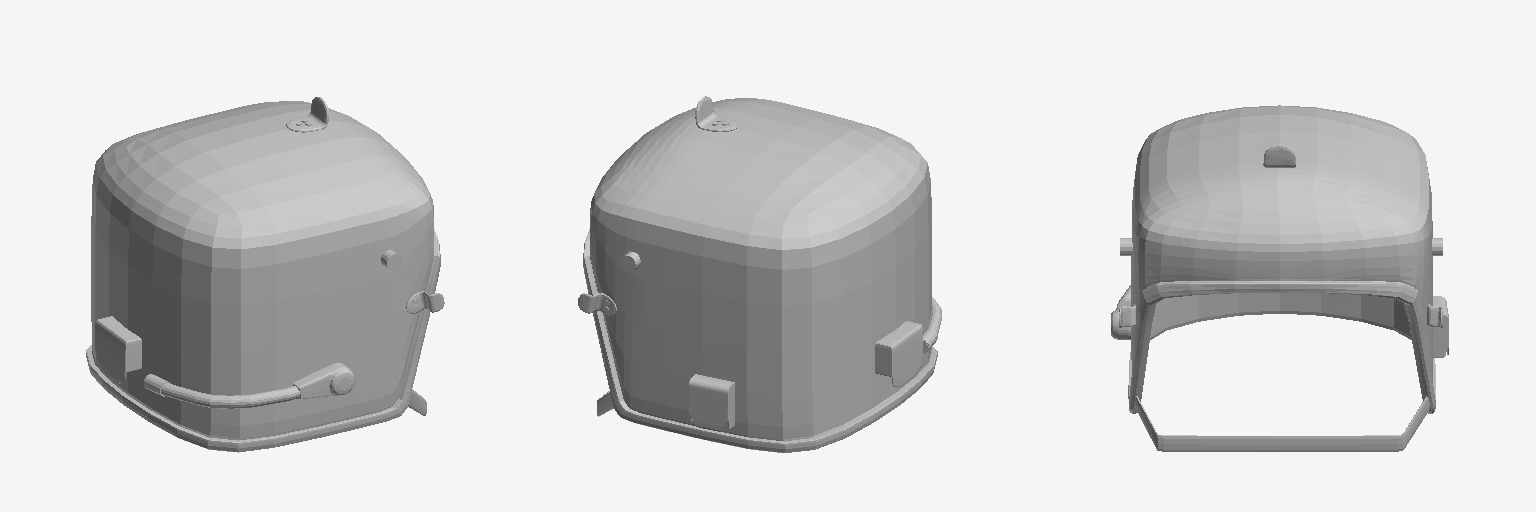
Rendered from helmet_altyn.obj.
The picture shows the model from 3 angles: view 1: azimuth 30°, elevation 25°; view 2: azimuth 150°, elevation 25°; view 3: azimuth 270°, elevation 25°; orthographic projection.
Visible parts, largest first — view 1: Cube.001, Cube.008_Cube.011, Cylinder.010, Cylinder.009, Cube.004_Cube.006, Cube.006_Cube.008; view 2: Cube.001, Cube.008_Cube.011, Cube.007_Cube.010, Cube.004_Cube.006, Cube.005_Cube.007, Cylinder.010; view 3: Cube.001, Cube.002_Cube.013, Cube.007_Cube.010, Cube.004_Cube.006.
Part boxes in pixels (left/top/right/bottom): Cube.001: left=86, top=101, right=440, bottom=452; Cube.008_Cube.011: left=95, top=316, right=141, bottom=383; Cylinder.010: left=144, top=374, right=299, bottom=408; Cylinder.009: left=293, top=362, right=354, bottom=398; Cube.004_Cube.006: left=286, top=97, right=328, bottom=132; Cube.006_Cube.008: left=406, top=291, right=444, bottom=313; Cube.001: left=583, top=98, right=937, bottom=452; Cube.008_Cube.011: left=875, top=321, right=922, bottom=387; Cube.007_Cube.010: left=689, top=374, right=734, bottom=431; Cube.004_Cube.006: left=695, top=96, right=737, bottom=131; Cube.005_Cube.007: left=578, top=293, right=616, bottom=315; Cylinder.010: left=923, top=297, right=941, bottom=353; Cube.001: left=1128, top=105, right=1435, bottom=413; Cube.002_Cube.013: left=1135, top=396, right=1429, bottom=451; Cube.007_Cube.010: left=1433, top=296, right=1448, bottom=357; Cube.004_Cube.006: left=1263, top=145, right=1295, bottom=167.
Bounding box in the file's own units: 2.76 × 2.63 × 2.84.